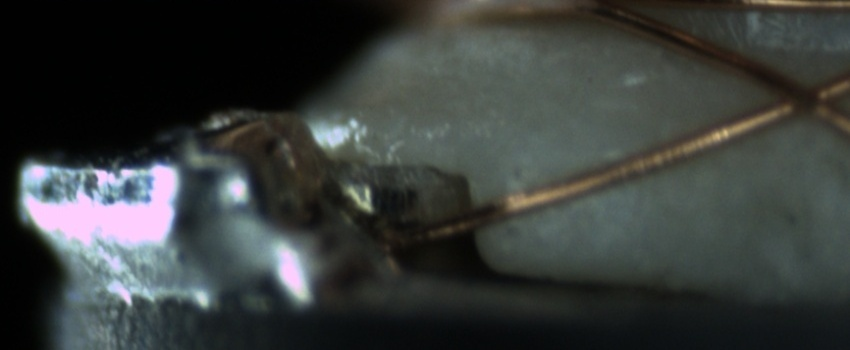CL: (750, 62, 844, 130)
